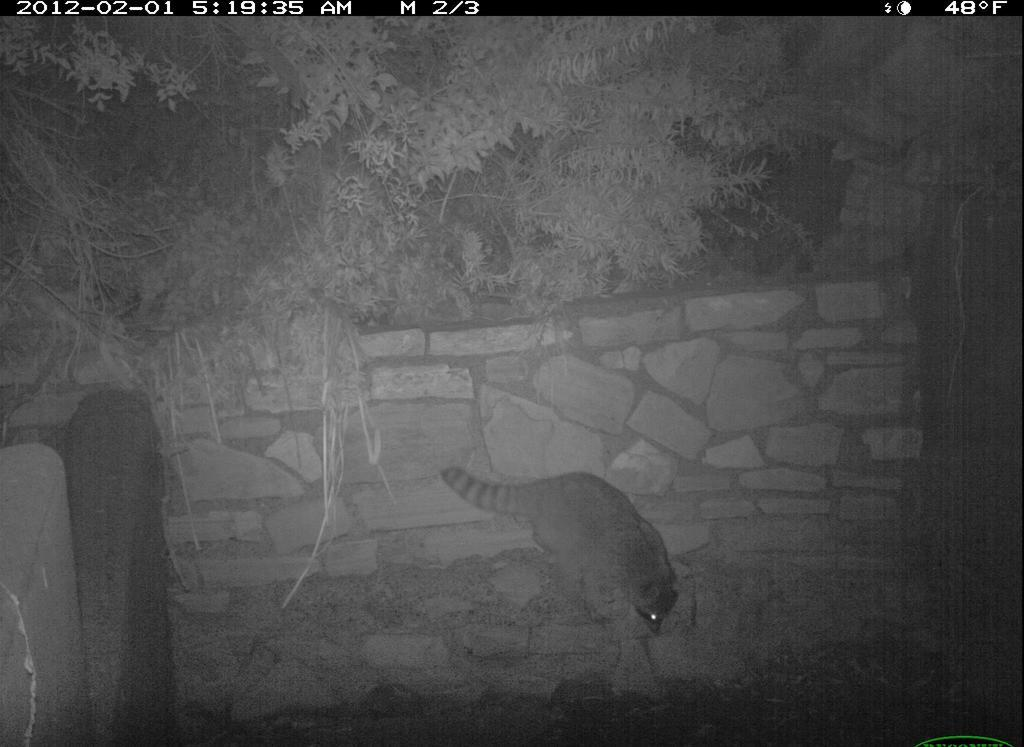raccoon: (434, 452, 697, 641)
